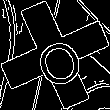O_NW: (25, 23, 85, 87)
